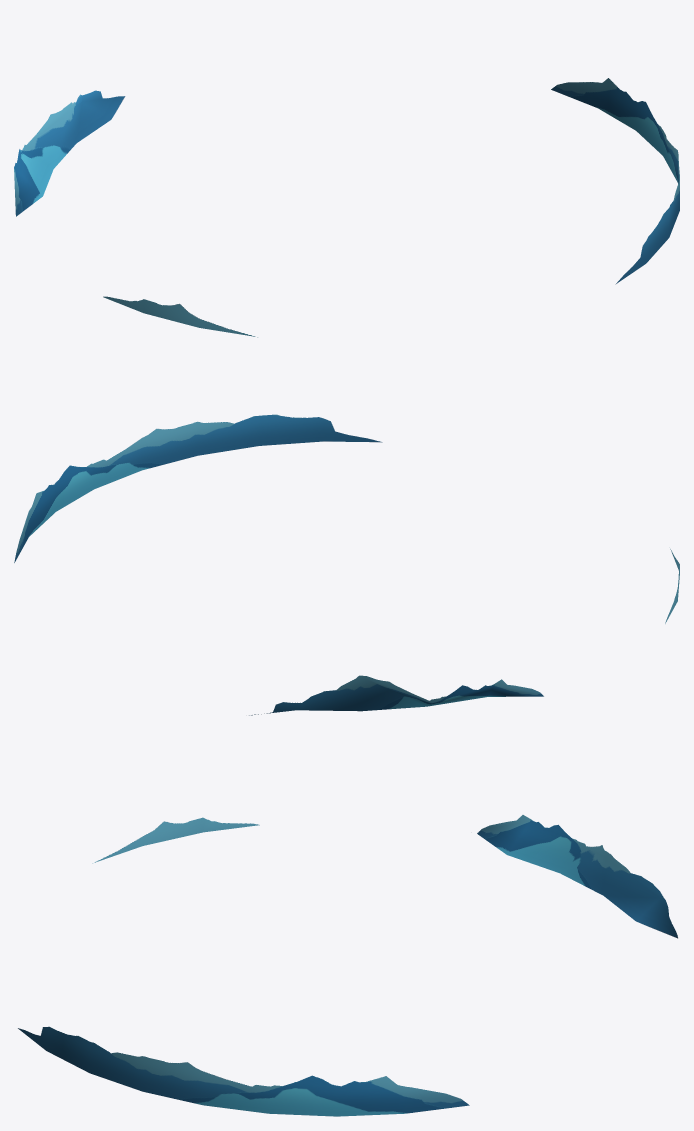
Rendered from hills.fbx.
3 views of the same model, one above another, from view 1: azimuth 30°, elevation 25°; view 2: azimuth 150°, elevation 25°; view 3: azimuth 270°, elevation 25° (orthographic). The views are drawn at different scales.
Parts seen in each view (by area): view 1: hills_2, hills_1, hills_3; view 2: hills_1, hills_2; view 3: hills_1, hills_2, hills_3.
Boxes of the visible parts, left/top/right/bottom form: hills_2: left=14, top=90, right=125, bottom=216; hills_1: left=551, top=78, right=679, bottom=284; hills_3: left=103, top=296, right=257, bottom=337; hills_1: left=14, top=414, right=382, bottom=562; hills_2: left=249, top=675, right=543, bottom=715; hills_1: left=18, top=1026, right=469, bottom=1116; hills_2: left=477, top=815, right=677, bottom=938; hills_3: left=92, top=817, right=259, bottom=863.
Size of the model in its own units: 35529 by 4460 by 34163.
